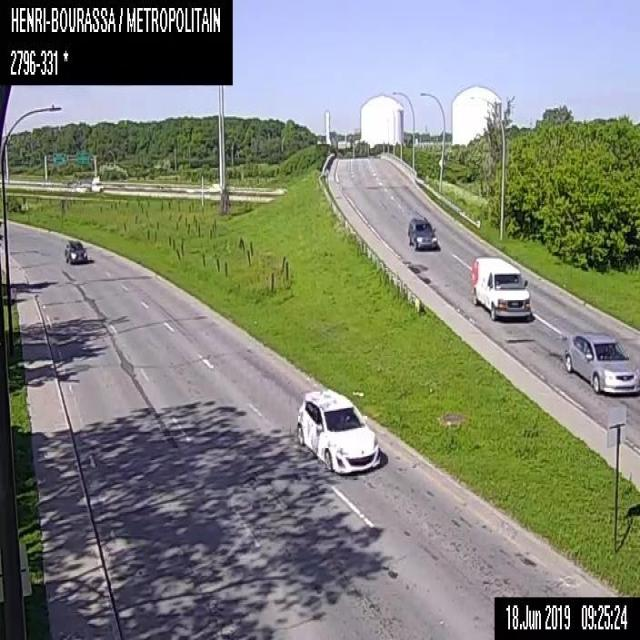vehicle: (295, 386, 380, 474), (564, 328, 639, 395), (471, 252, 533, 321), (406, 212, 437, 251), (63, 239, 87, 263), (75, 173, 102, 191)
